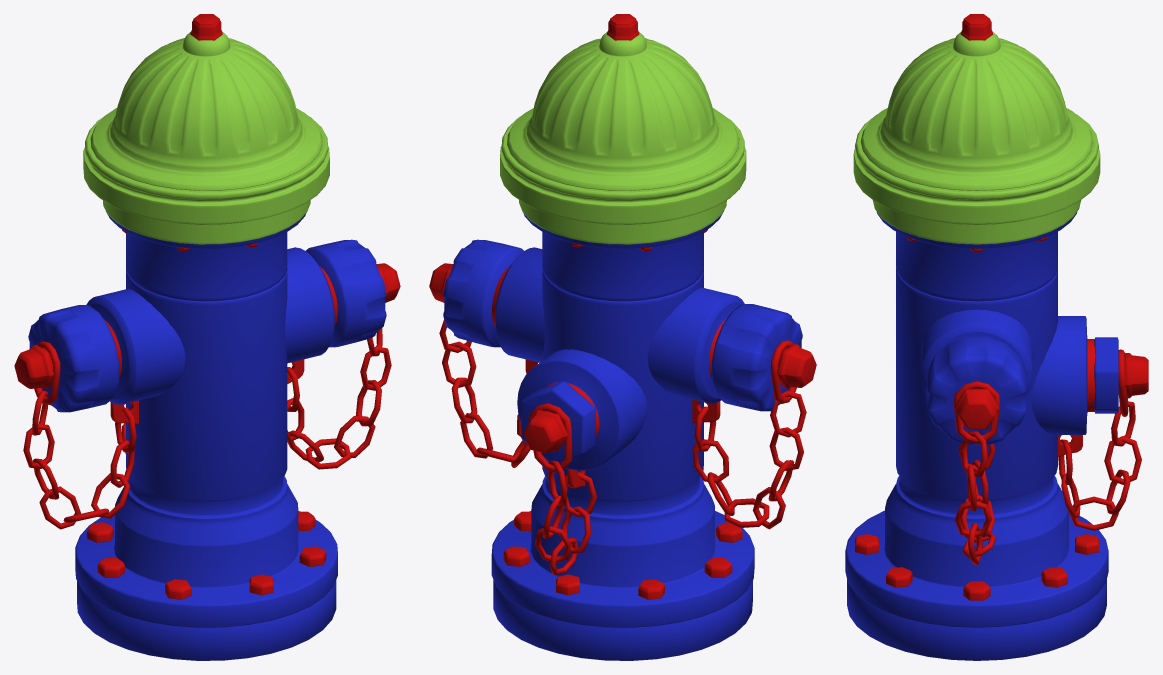
3 views of the same model, side by side, from view 1: azimuth 30°, elevation 25°; view 2: azimuth 150°, elevation 25°; view 3: azimuth 270°, elevation 25° (orthographic).
Visible parts, largest first — view 1: Cylinder (×3); view 2: Cylinder (×3); view 3: Cylinder (×3).
Part boxes in pixels (x1=…): Cylinder (×3): x1=14, y1=14, x2=400, y2=660; Cylinder (×3): x1=429, y1=14, x2=816, y2=660; Cylinder (×3): x1=845, y1=14, x2=1148, y2=660.
Bounding box in the file's own units: 1.32 × 2 × 0.9359.
